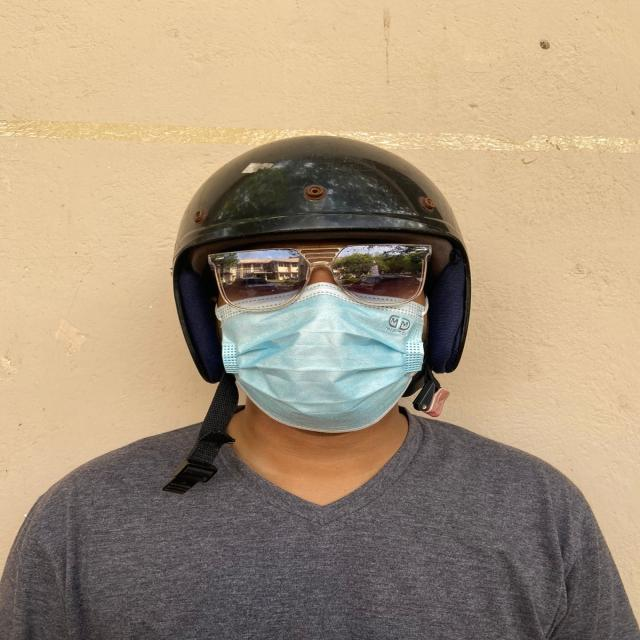With Helmet: (166, 134, 471, 390)
